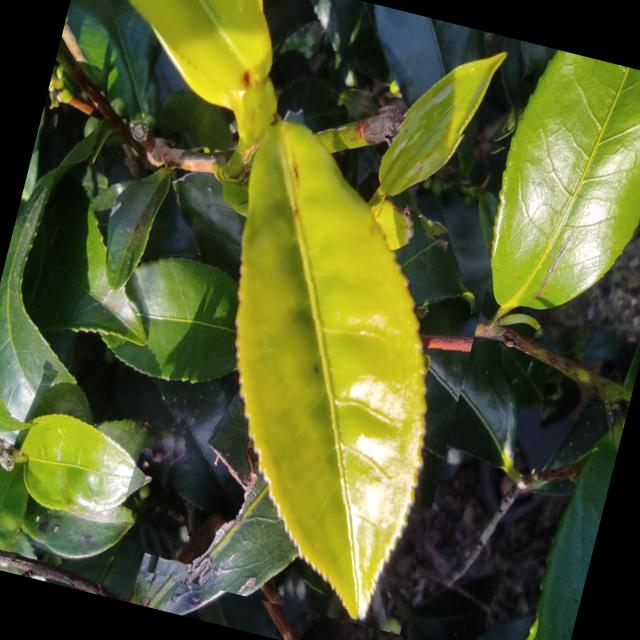Category B(2-4 days): (132, 70, 524, 634)
